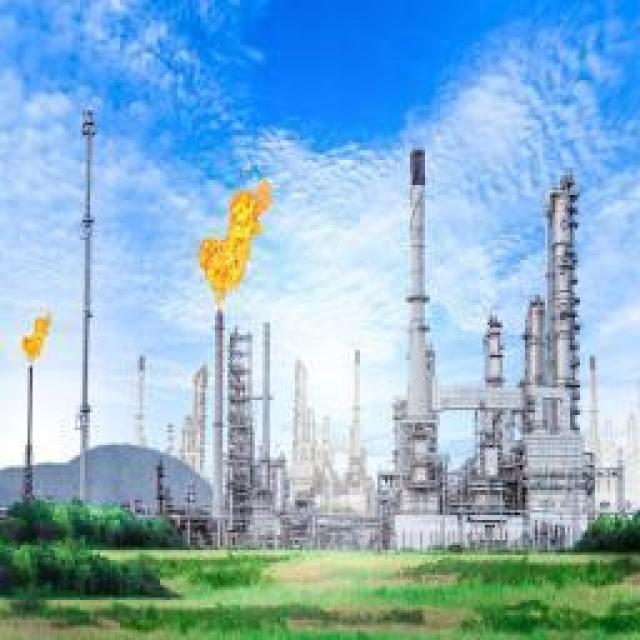fire: (200, 177, 272, 309), (21, 312, 52, 364)
